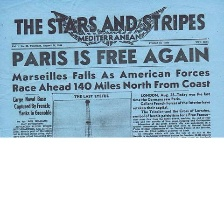news_paper: (0, 0, 224, 137)
